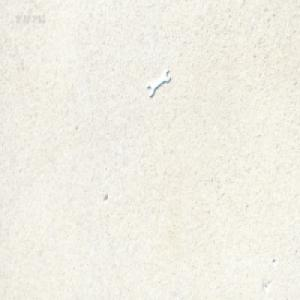Wrench: (147, 67, 170, 97)
